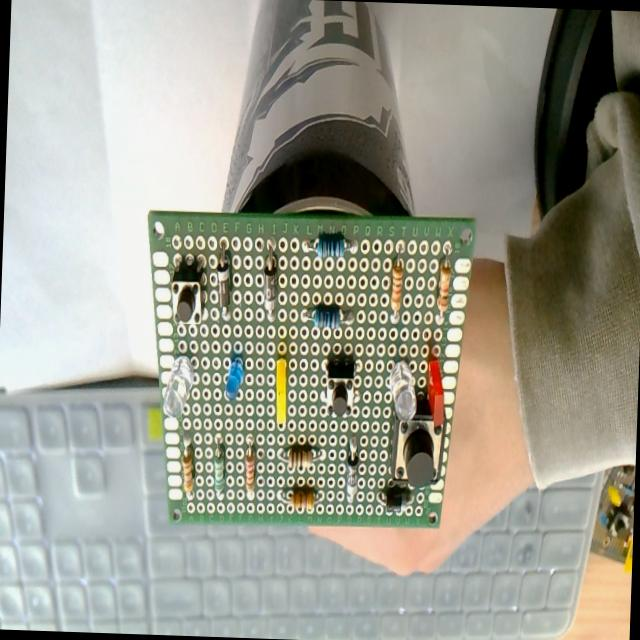diode: (214, 240, 232, 323), (262, 241, 280, 323), (345, 436, 360, 502), (378, 492, 411, 514)
led: (161, 354, 195, 419), (387, 359, 418, 424), (425, 360, 445, 430), (274, 358, 288, 428), (223, 356, 244, 401)
resistor: (302, 232, 358, 260), (435, 258, 451, 324), (389, 258, 404, 321), (311, 306, 340, 331), (288, 446, 313, 472), (212, 446, 225, 496), (290, 488, 315, 514), (181, 444, 194, 494), (243, 446, 255, 494)
switch: (388, 395, 444, 492), (171, 256, 205, 328), (321, 362, 355, 418)
